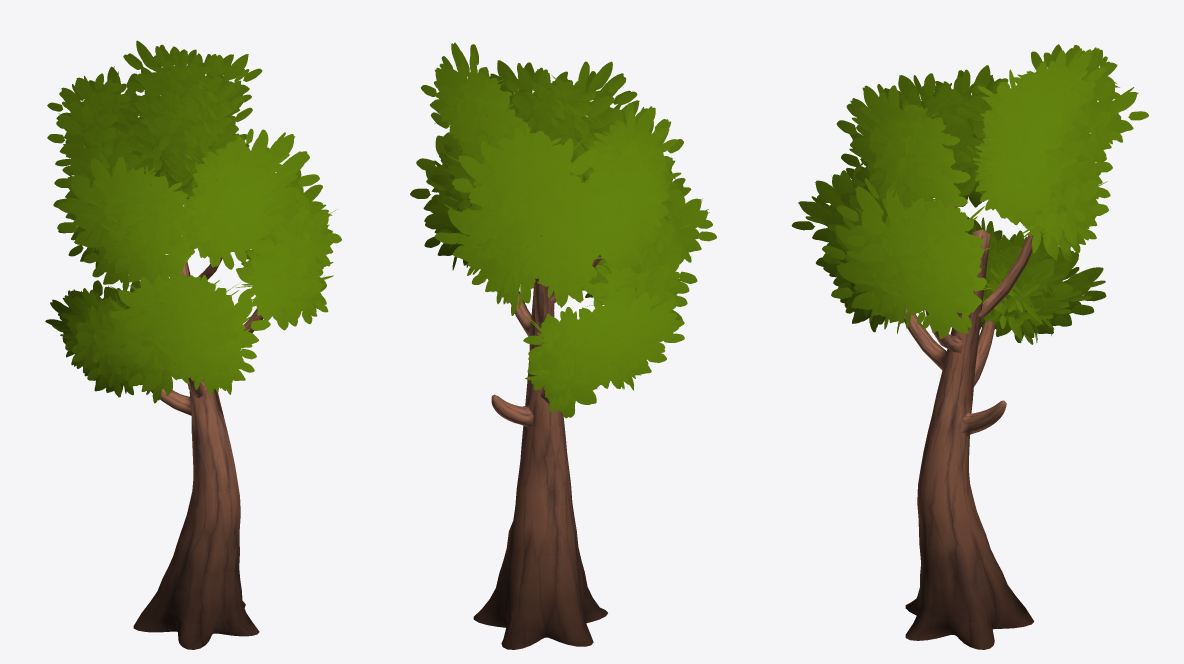
File: CommonTree_5.gltf
The picture shows the model from 3 angles, left to right: view 1: azimuth 30°, elevation 25°; view 2: azimuth 150°, elevation 25°; view 3: azimuth 270°, elevation 25°; orthographic projection. The views are drawn at different scales.
Visible parts, largest first — view 1: CommonTree_5; view 2: CommonTree_5; view 3: CommonTree_5.
Part boxes in pixels (<box>): CommonTree_5: <box>45,40,341,649</box>; CommonTree_5: <box>410,42,716,649</box>; CommonTree_5: <box>791,44,1148,649</box>.
Bounding box in the file's own units: 3.67 × 7.01 × 4.22.
2 materials, 2 textured.
